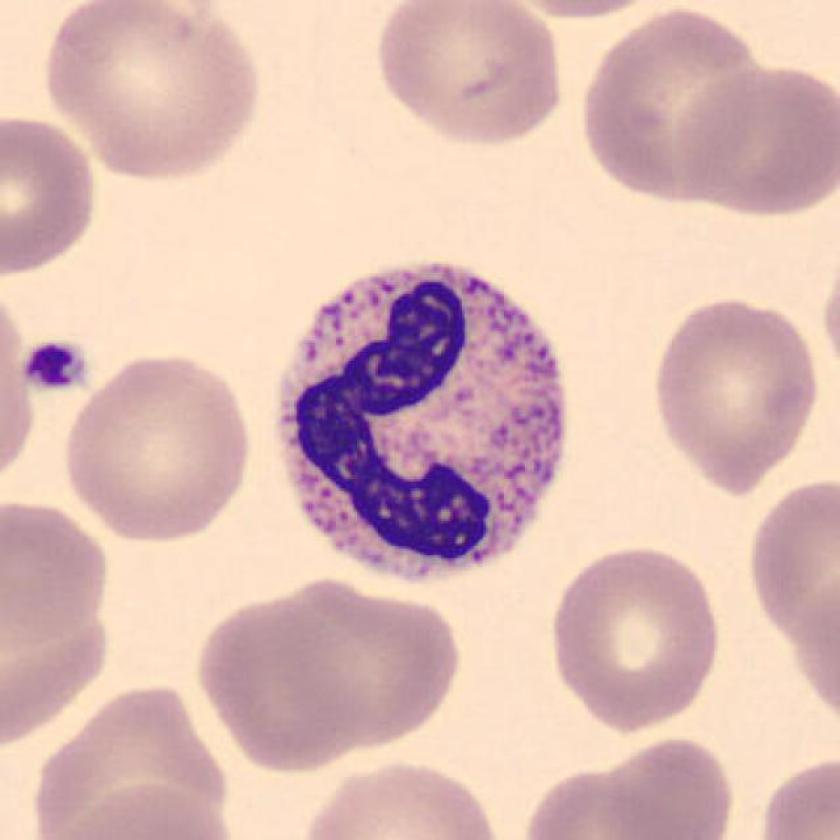neutrophil: (280, 266, 566, 577)
